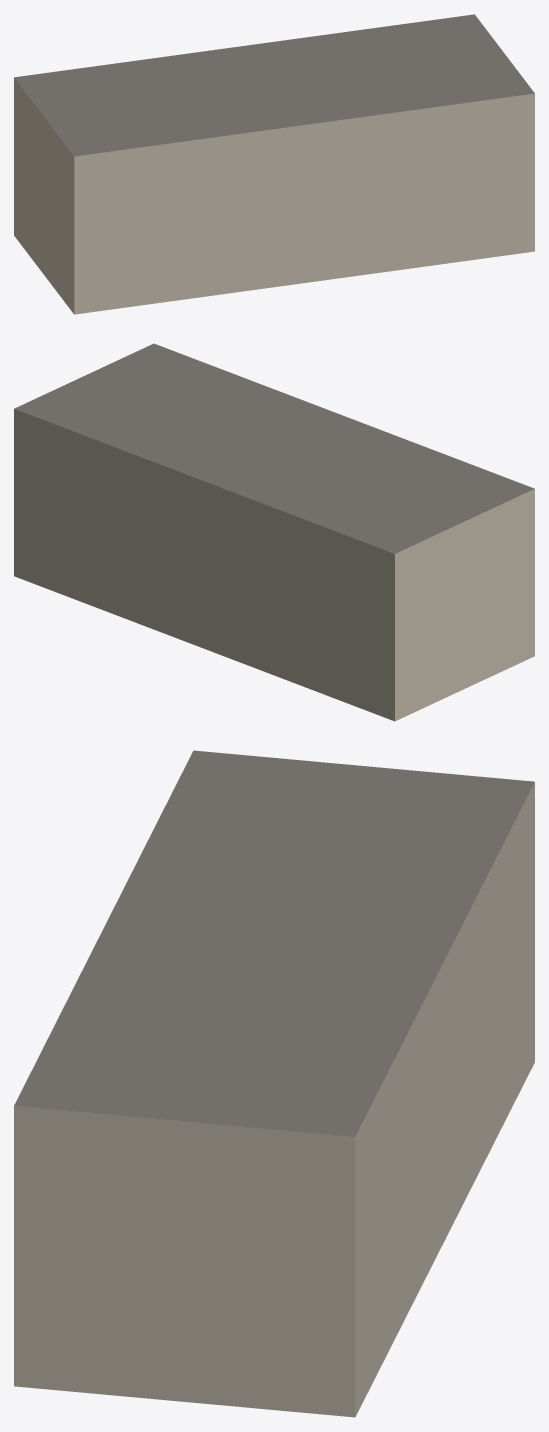
The picture shows the model from 3 angles, top to bottom: view 1: azimuth 30°, elevation 25°; view 2: azimuth 150°, elevation 25°; view 3: azimuth 270°, elevation 25°; orthographic projection. The views are drawn at different scales.
Visible parts, largest first — view 1: HP-w859488864; view 2: HP-w859488864; view 3: HP-w859488864.
Part boxes in pixels (x1,y1,x2,y2): HP-w859488864: (14, 14, 534, 314); HP-w859488864: (14, 343, 534, 721); HP-w859488864: (14, 750, 534, 1417).
Size of the model in its own units: 53.16 by 18 by 30.29.
